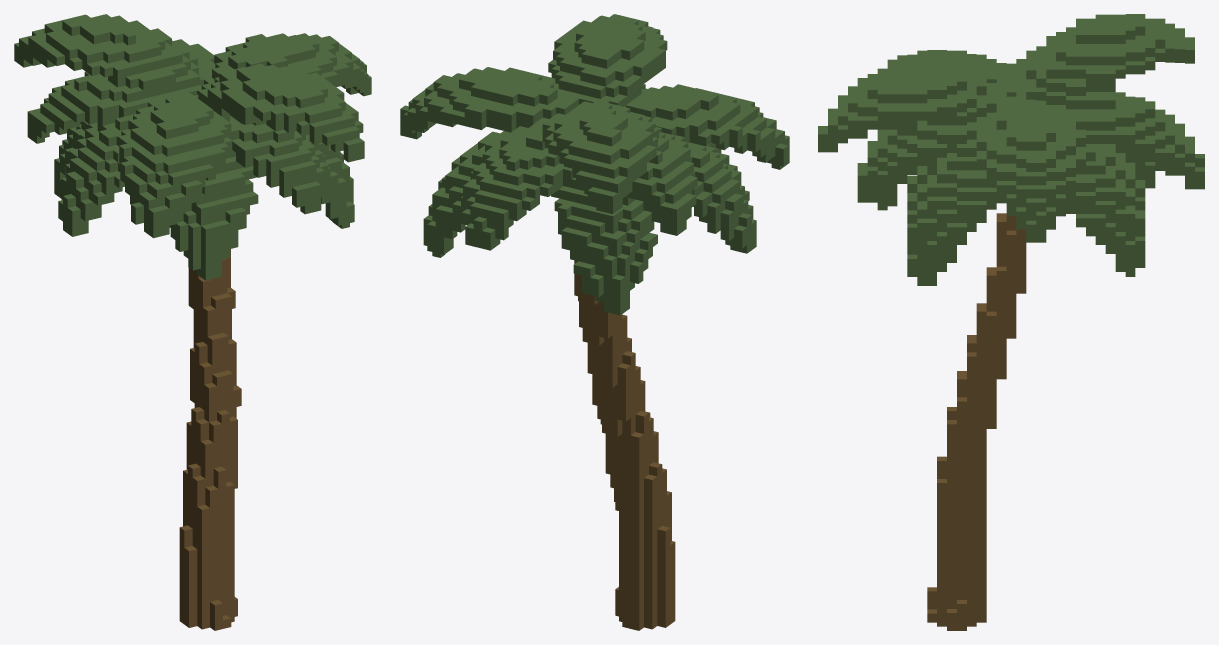
File: PalmTree.fbx
3 renders of one model, left to right at view 1: azimuth 30°, elevation 25°; view 2: azimuth 150°, elevation 25°; view 3: azimuth 270°, elevation 25°, orthographic. The views are drawn at different scales.
Visible parts, largest first — view 1: Palm_Tree; view 2: Palm_Tree; view 3: Palm_Tree.
Boxes of the visible parts, x1,y1,x2,y2 form: Palm_Tree: (14, 14, 371, 630); Palm_Tree: (400, 14, 789, 630); Palm_Tree: (818, 14, 1204, 630).
Size of the model in its own units: 390 by 640 by 390.
